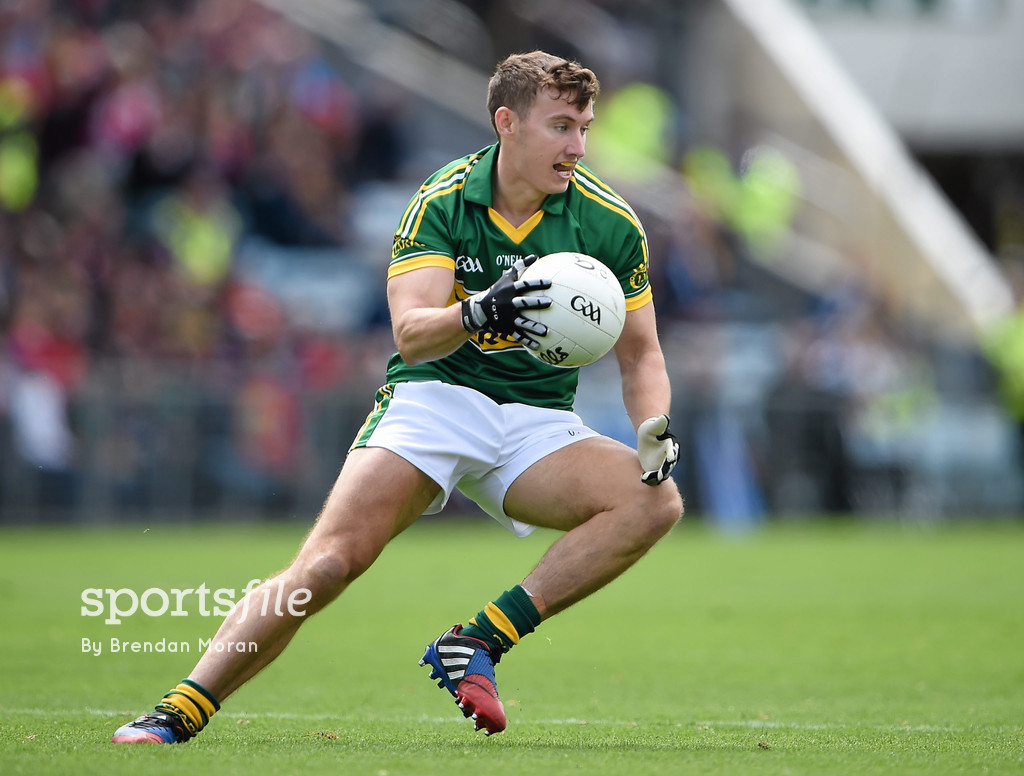ball: (512, 252, 624, 379)
player: (355, 29, 681, 654)
